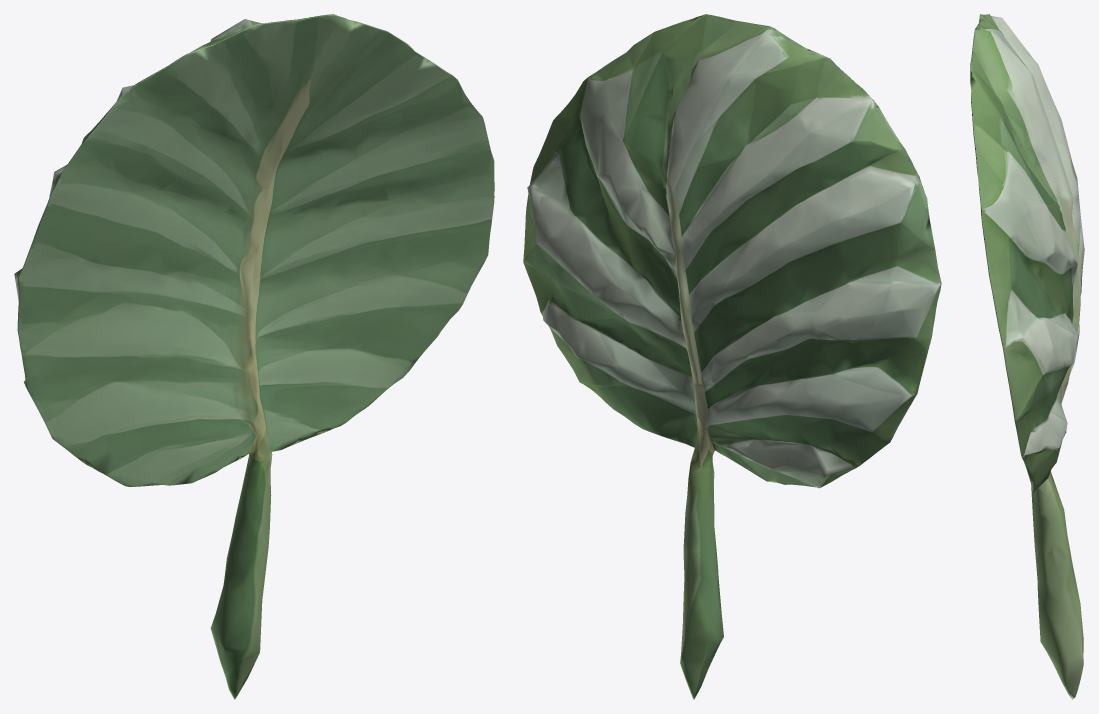
The model's file is ca_leaf_mid.glb.
3 renders of one model, left to right at view 1: azimuth 30°, elevation 25°; view 2: azimuth 150°, elevation 25°; view 3: azimuth 270°, elevation 25°, orthographic. The views are drawn at different scales.
Visible parts, largest first — view 1: tripo_node_2dd9074a-2442-4584-a31a-02766d8e5933; view 2: tripo_node_2dd9074a-2442-4584-a31a-02766d8e5933; view 3: tripo_node_2dd9074a-2442-4584-a31a-02766d8e5933.
Part boxes in pixels (left/top/right/bottom): tripo_node_2dd9074a-2442-4584-a31a-02766d8e5933: left=14, top=14, right=494, bottom=699; tripo_node_2dd9074a-2442-4584-a31a-02766d8e5933: left=523, top=14, right=941, bottom=699; tripo_node_2dd9074a-2442-4584-a31a-02766d8e5933: left=970, top=14, right=1084, bottom=699.
Size of the model in its own units: 0.7069 by 1.04 by 0.1639.
Materials: 1 (1 with a texture image).
